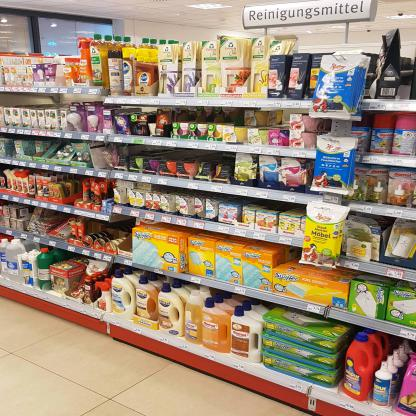Void: (117, 216, 132, 232), (289, 248, 299, 264)
